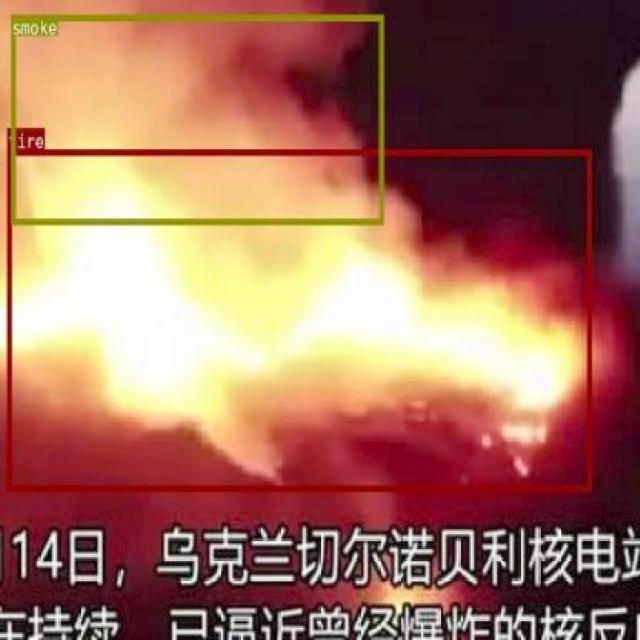fire: (6, 148, 591, 490)
smoke: (10, 13, 382, 224)
